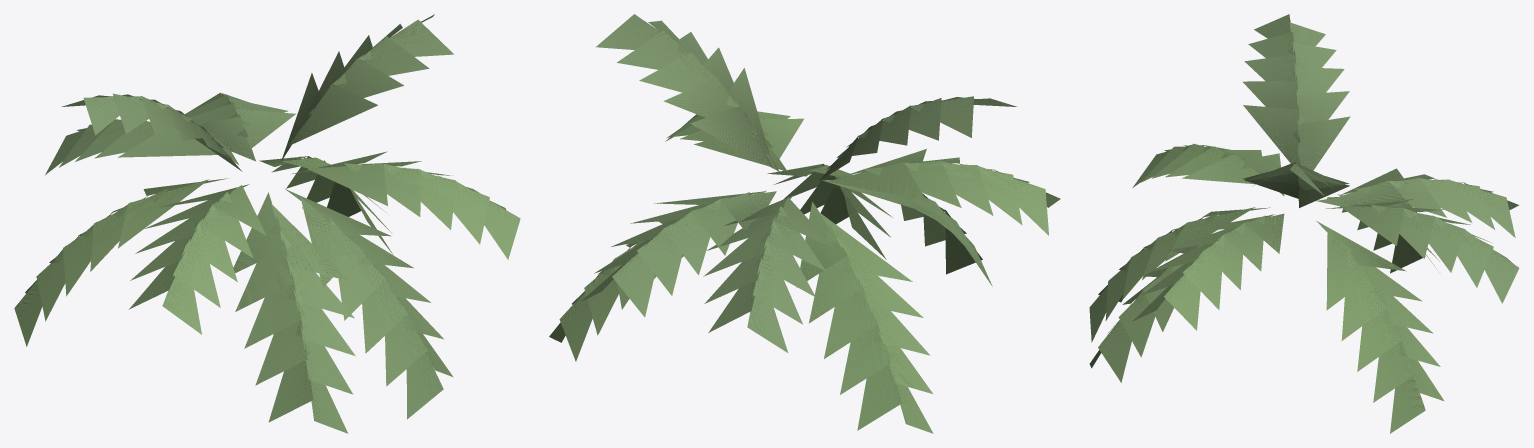
The model's file is treefern.lod.glb.
The picture shows the model from 3 angles, left to right: view 1: azimuth 30°, elevation 25°; view 2: azimuth 150°, elevation 25°; view 3: azimuth 270°, elevation 25°; orthographic projection. The views are drawn at different scales.
Visible parts, largest first — view 1: treefern; view 2: treefern; view 3: treefern.
Boxes of the visible parts, x1,y1,x2,y2 form: treefern: (14,14,520,433); treefern: (549,14,1060,433); treefern: (1089,14,1519,433).
Bounding box in the file's own units: 3.06 × 2.24 × 3.34.
